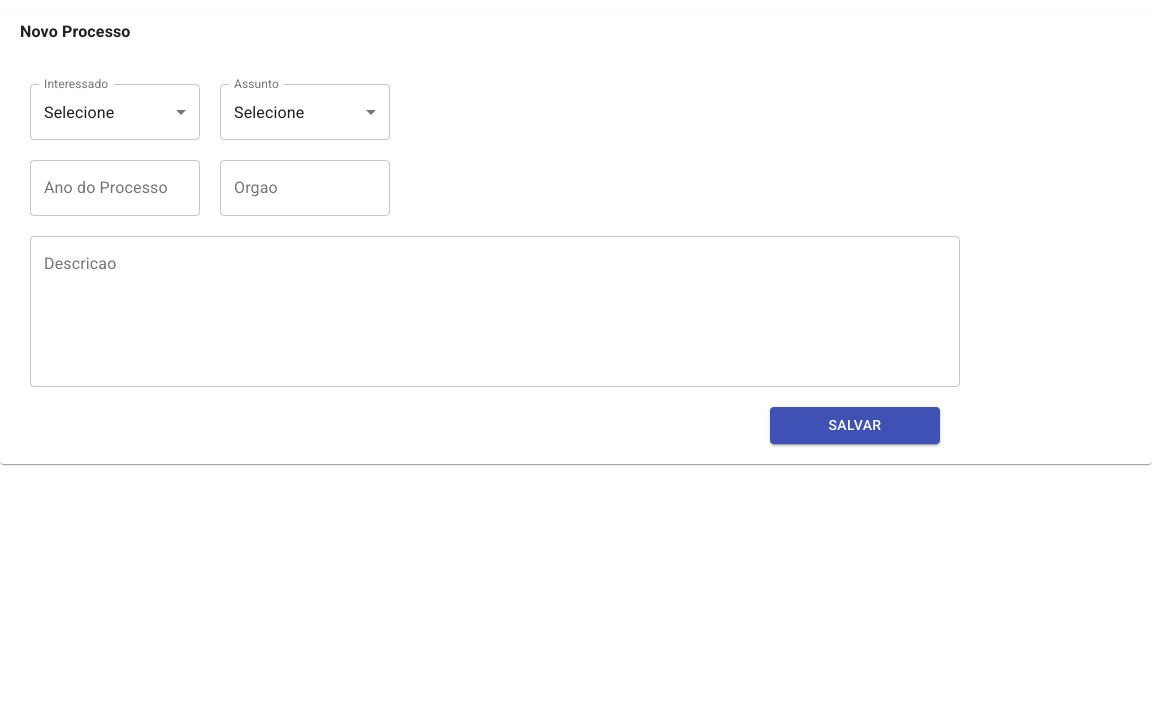
FormProcesso Component › Deve testar a validacao do Ano
Click the button "Salvar" at (855, 425), box [770, 407, 940, 444]
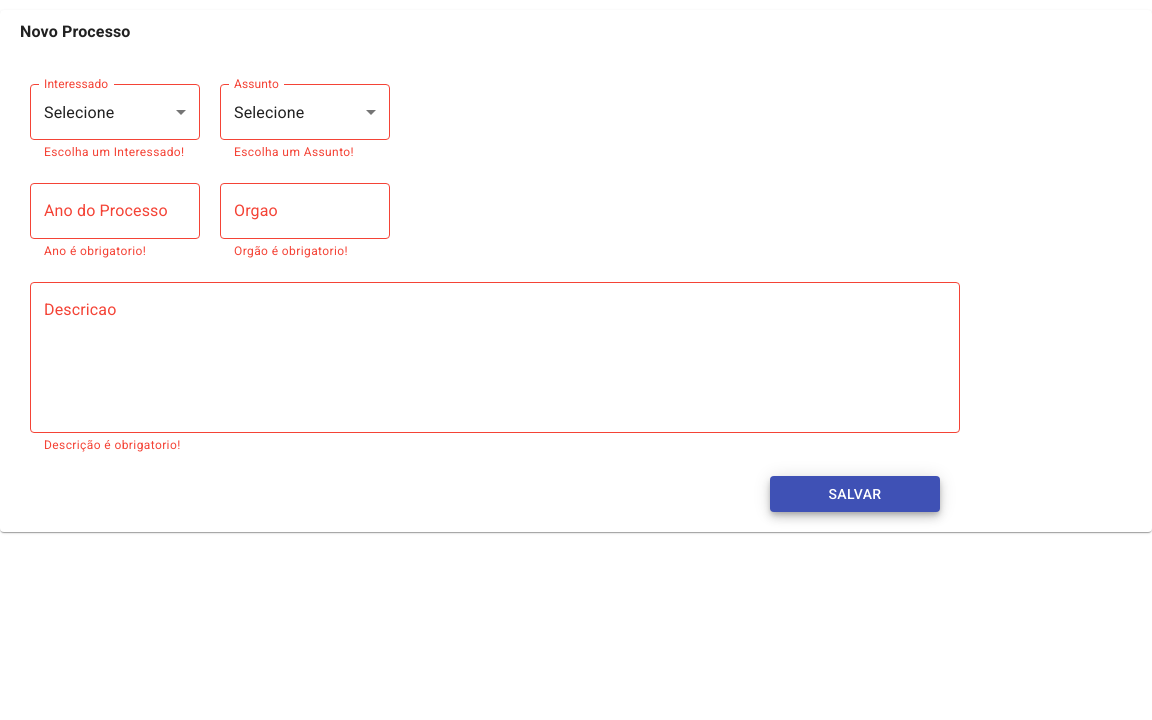
Expected: the text "Ano é obrigatorio!" is shown, [44, 244, 146, 258]
Type "111" into the field labelled "Ano do Processo" at (115, 211), box [30, 183, 200, 239]
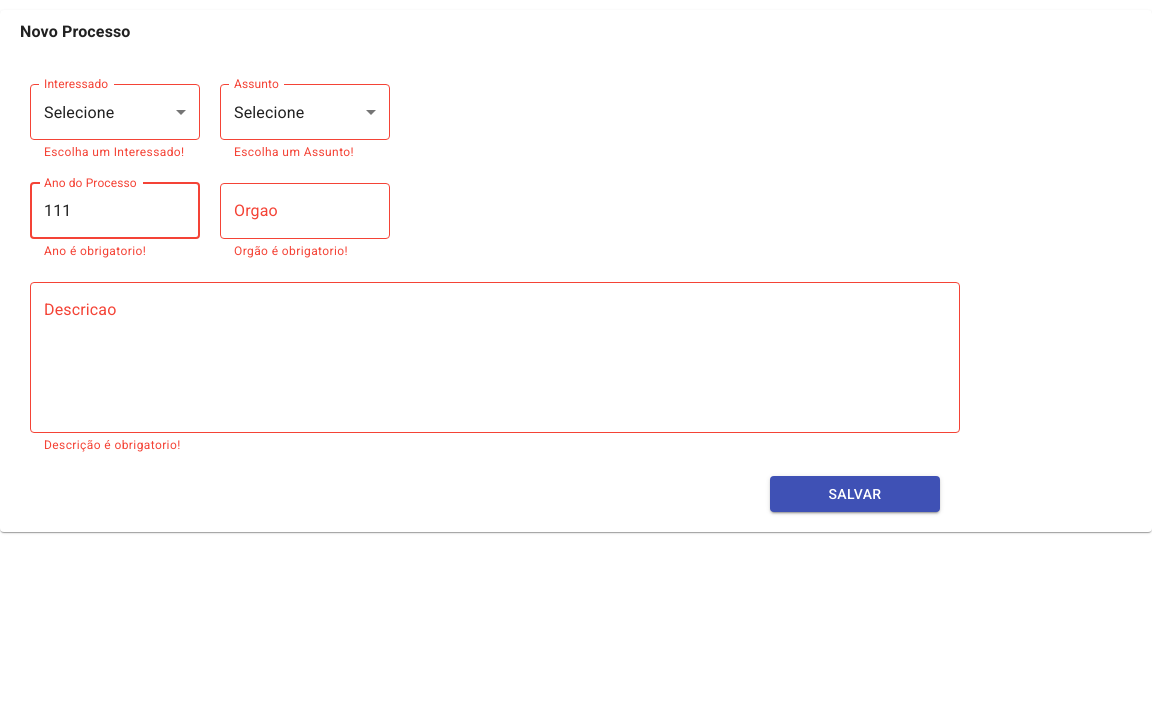
Click the button "Salvar" at (855, 494), box [770, 476, 940, 512]
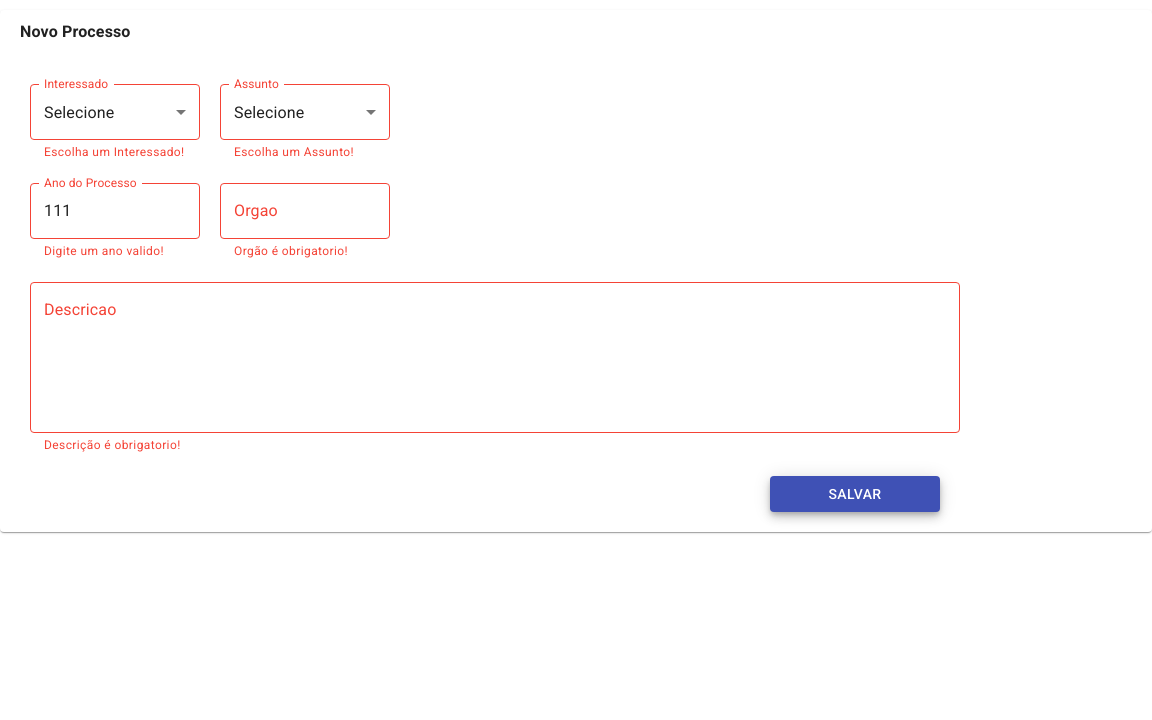
Expected: the text "Digite um ano valido!" is shown, [44, 244, 164, 258]
